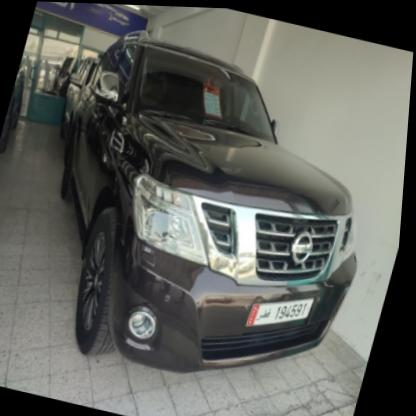np: (248, 277, 321, 341)
